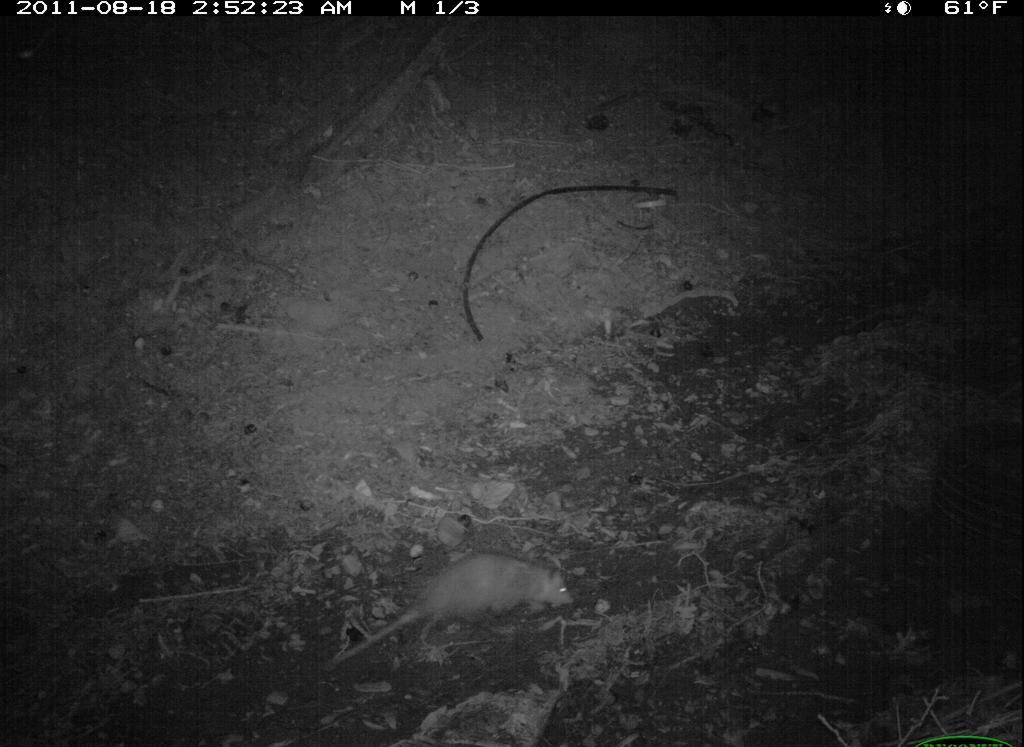opossum: (312, 548, 578, 680)
